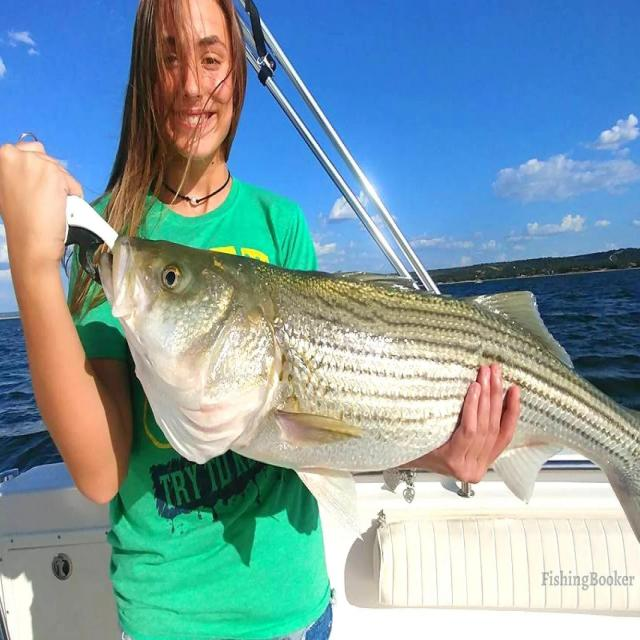Bass - Striped: (100, 238, 640, 539)
